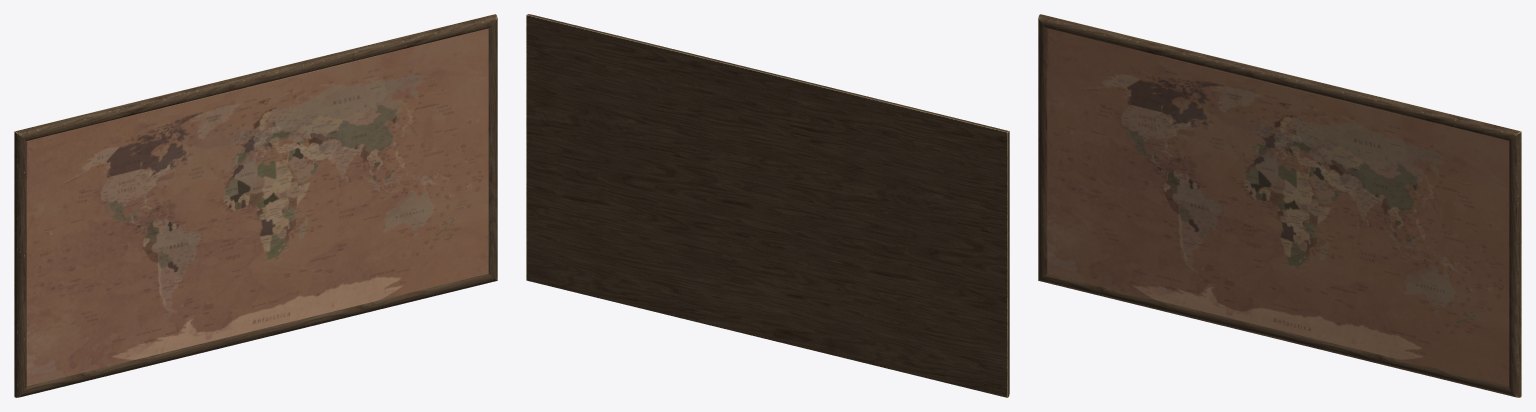
The model's file is SM_WorldMap.glb.
3 renders of one model, left to right at view 1: azimuth 30°, elevation 25°; view 2: azimuth 150°, elevation 25°; view 3: azimuth 330°, elevation 25°, orthographic.
Visible parts, largest first — view 1: SM_WorldMap; view 2: SM_WorldMap; view 3: SM_WorldMap.
Boxes of the visible parts, x1=… form: SM_WorldMap: x1=14, y1=14, x2=497, y2=397; SM_WorldMap: x1=526, y1=14, x2=1009, y2=397; SM_WorldMap: x1=1038, y1=14, x2=1521, y2=397.
Bounding box in the file's own units: 1.94 × 1.03 × 0.026.
1 material, 1 textured.
